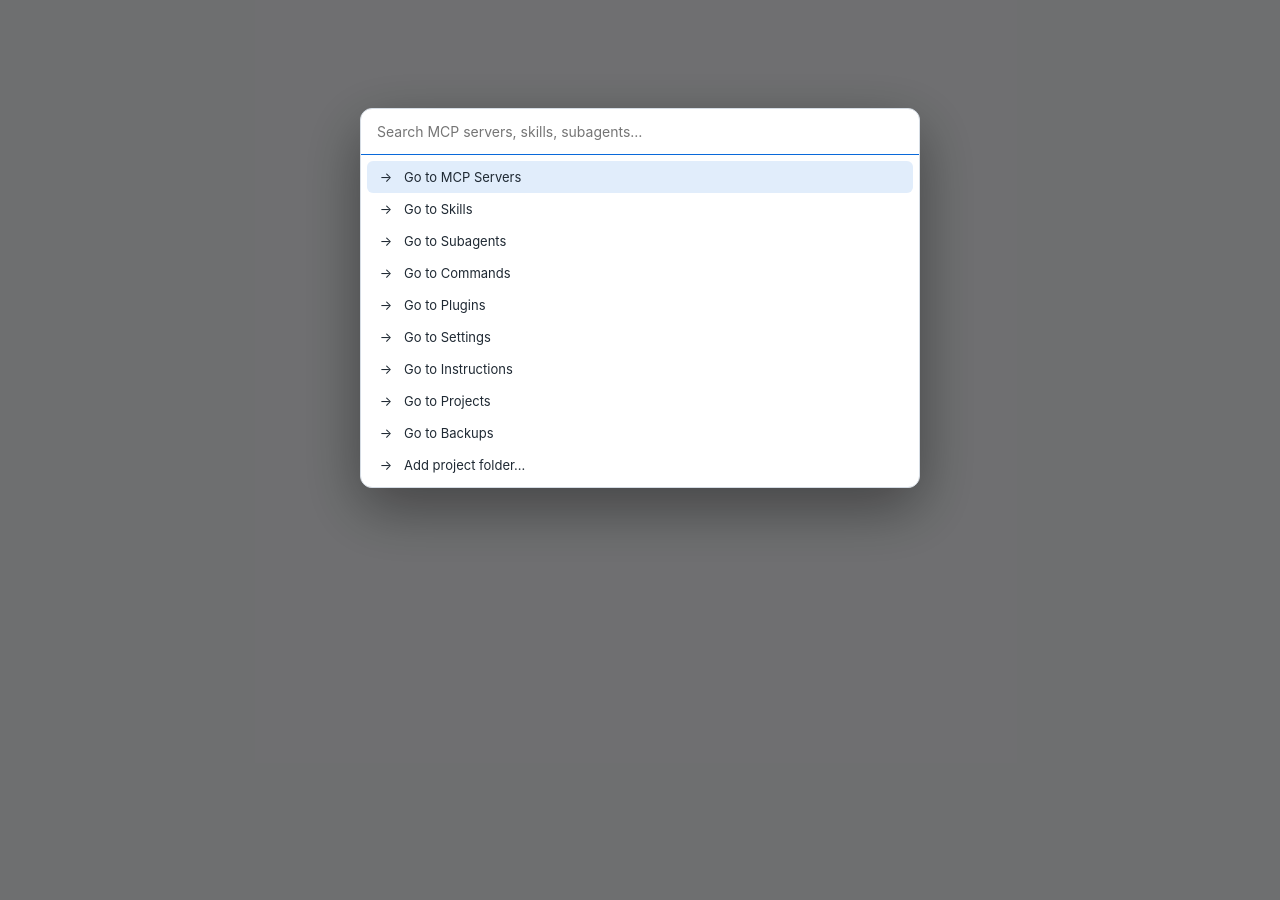
it: CommandPalette › searches entities and shows their agent and scope
Type "dep" into the field with placeholder "Search MCP servers, skills, subagents…" at {"x": 640, "y": 132}, box left=361, top=109, right=919, bottom=155
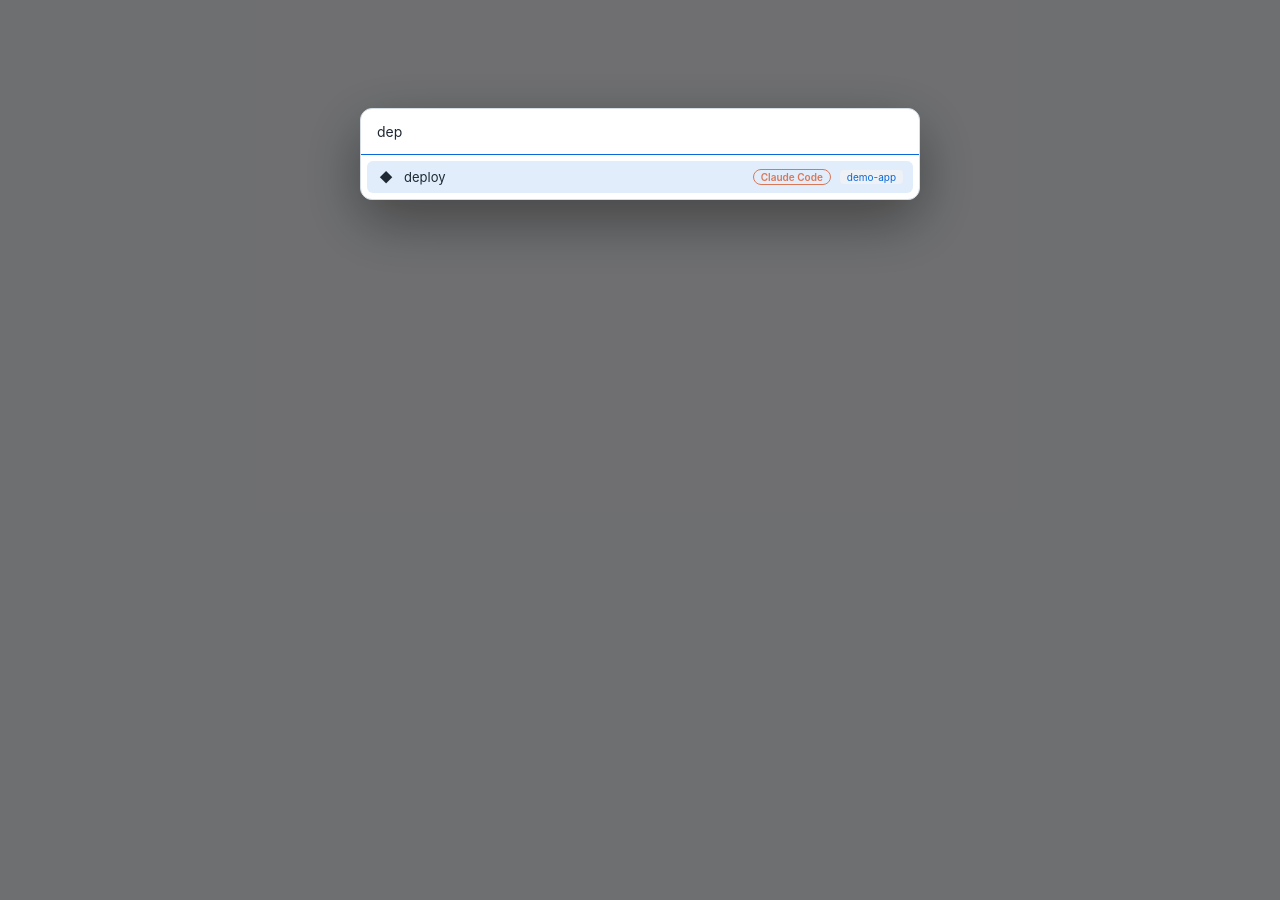
expect the text "deploy" is shown: met, box left=404, top=169, right=446, bottom=185
expect the text "Claude Code" is shown: met, box left=753, top=169, right=831, bottom=185
expect the text "demo-app" is shown: met, box left=840, top=170, right=903, bottom=184
